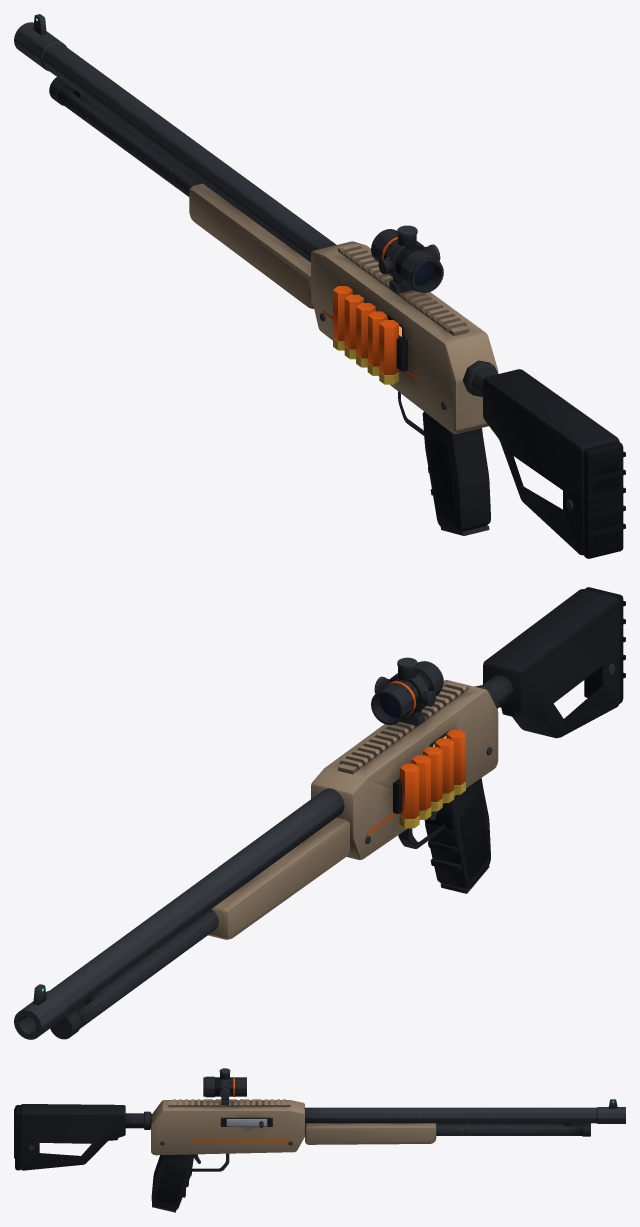
The model's file is benelli-m4.glb.
3 views of the same model, one above another, from view 1: azimuth 30°, elevation 25°; view 2: azimuth 150°, elevation 25°; view 3: azimuth 270°, elevation 25° (orthographic). The views are drawn at different scales.
Parts seen in each view (by area): view 1: body_polymer, body_steel, body_frame, body_rubber, bolt_furn, body_frame2, body_accent; view 2: body_polymer, body_steel, body_frame, bolt_furn, body_frame2, body_accent, body_rubber, body_brass; view 3: body_steel, body_frame, body_polymer, bolt_furn, body_frame2, body_rubber, bolt_bolt, body_accent.
Boxes of the visible parts, x1,y1,x2,y2 form: body_polymer: (396, 335, 619, 555); body_steel: (14, 14, 573, 510); body_frame: (311, 241, 498, 434); body_rubber: (427, 438, 625, 558); bolt_furn: (189, 183, 313, 308); body_frame2: (49, 77, 497, 535); body_accent: (323, 237, 417, 380); body_polymer: (393, 589, 619, 889); body_steel: (14, 657, 615, 1039); body_frame: (311, 680, 498, 859); bolt_furn: (208, 817, 349, 939); body_frame2: (50, 661, 513, 1039); body_accent: (367, 681, 465, 835); body_rubber: (460, 587, 625, 878); body_brass: (399, 781, 465, 828); body_steel: (28, 1068, 625, 1163); body_frame: (151, 1099, 304, 1155); body_polymer: (20, 1104, 271, 1210); bolt_furn: (305, 1123, 436, 1144); body_frame2: (125, 1073, 590, 1212); body_rubber: (14, 1105, 186, 1205); bolt_bolt: (226, 1119, 267, 1126); body_accent: (191, 1077, 290, 1140).
Bounding box in the file's own units: 0.0828 × 0.2635 × 1.05.
